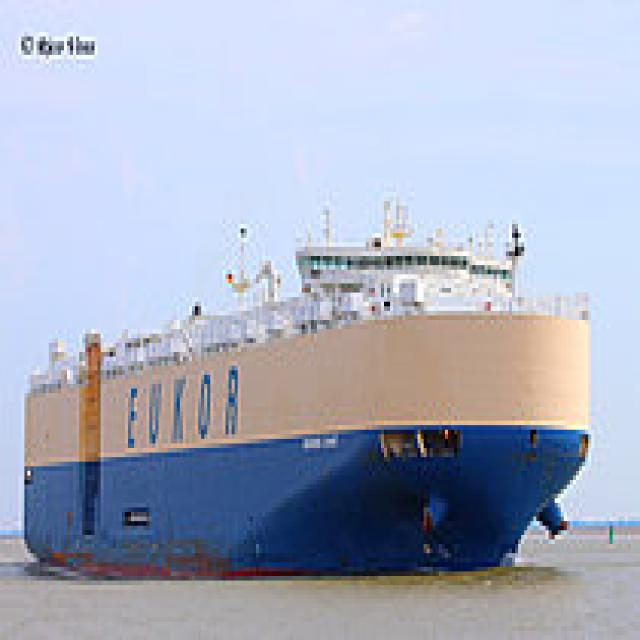Carrier: (19, 178, 592, 567)
